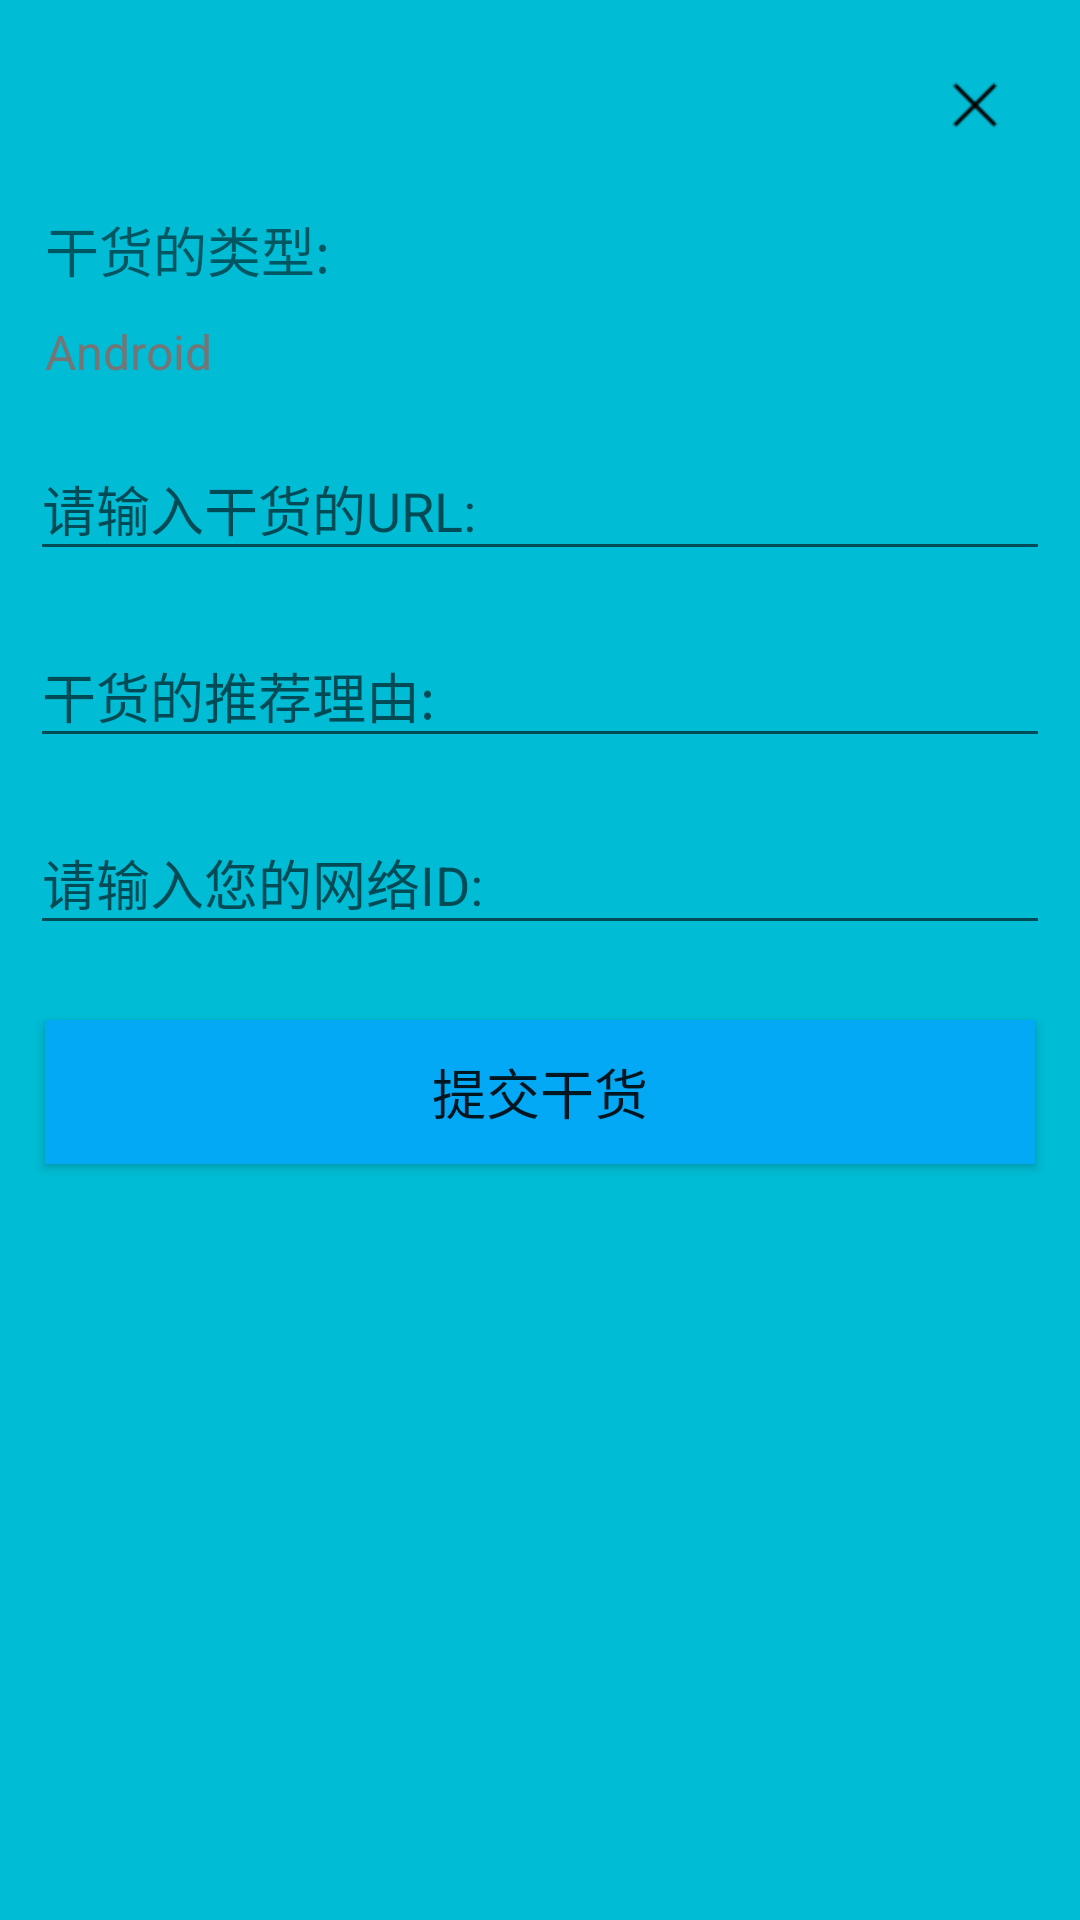

Locate icon controls on the screen. Image size 1080px×1920px, boxes as (x1, y1, x2, y2).
delete: (953, 83, 997, 127)
